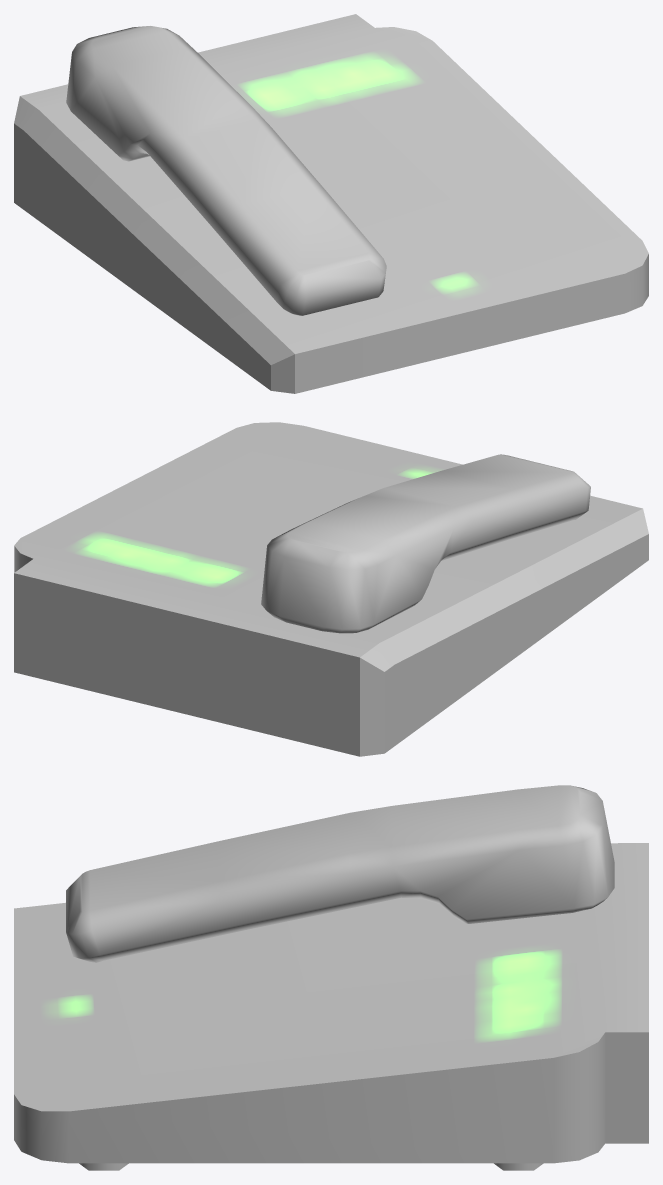
Rendered from SM_Phone.fbx.
3 views of the same model, one above another, from view 1: azimuth 30°, elevation 25°; view 2: azimuth 150°, elevation 25°; view 3: azimuth 270°, elevation 25° (orthographic). The views are drawn at different scales.
Visible parts, largest first — view 1: SM_Phone_LOD0; view 2: SM_Phone_LOD0; view 3: SM_Phone_LOD0.
Boxes of the visible parts, x1,y1,x2,y2 form: SM_Phone_LOD0: [14, 14, 648, 393]; SM_Phone_LOD0: [14, 422, 648, 756]; SM_Phone_LOD0: [14, 785, 648, 1170].
Size of the model in its own units: 15.07 by 18.6 by 6.89.
